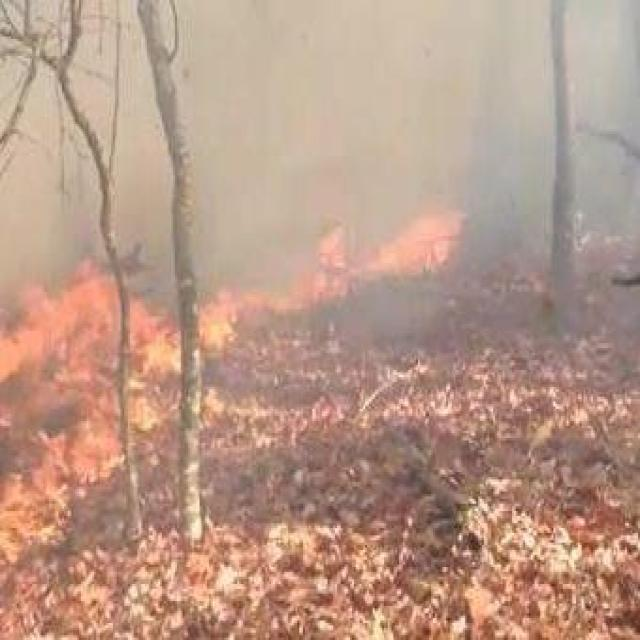Fire: (8, 401, 90, 545), (12, 293, 163, 371), (290, 221, 372, 334), (199, 273, 261, 362), (405, 212, 463, 290)
Smoke: (16, 15, 460, 190), (488, 32, 626, 310)
